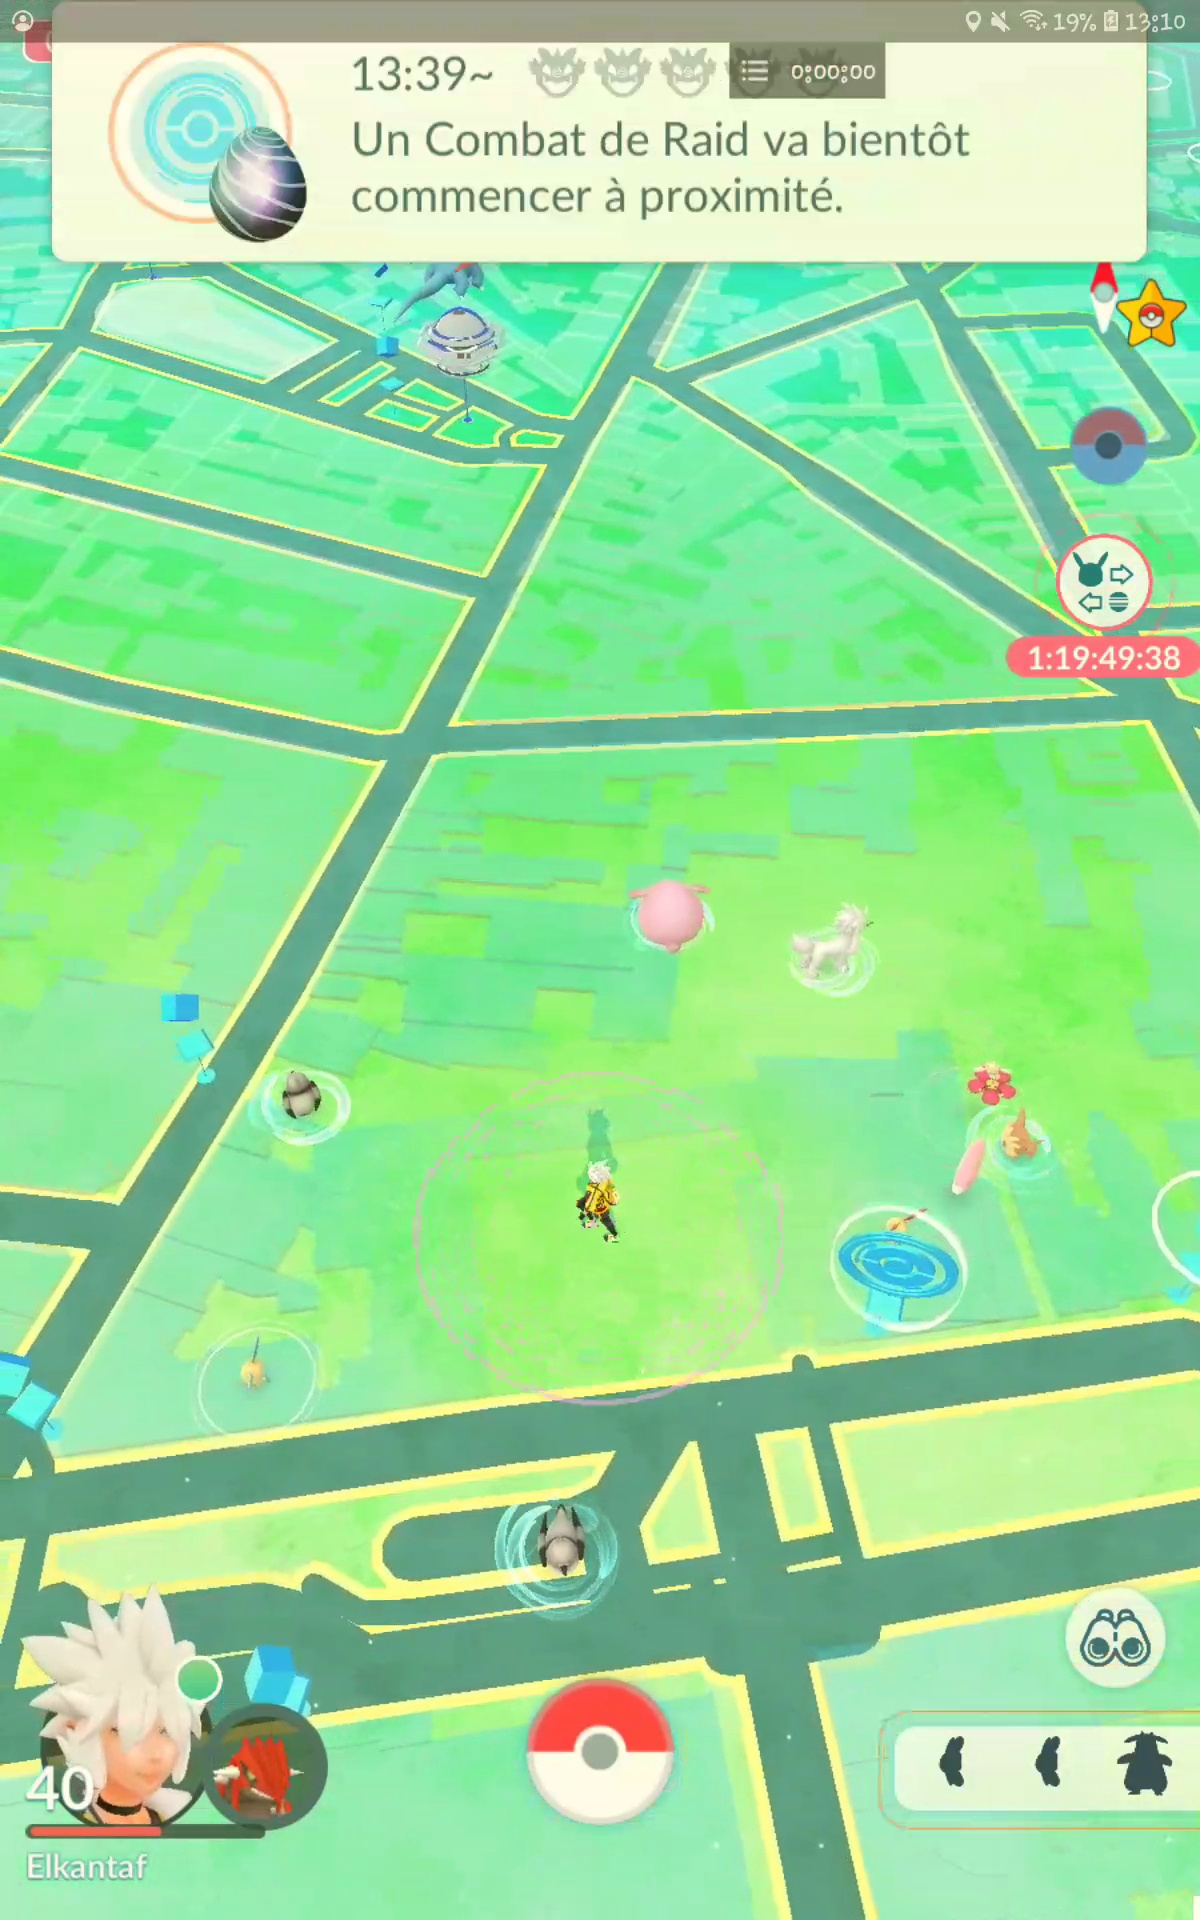Pokemon: (782, 893, 893, 995), (617, 869, 733, 963), (525, 1493, 607, 1588), (228, 1320, 283, 1411), (271, 1059, 335, 1136), (993, 1104, 1053, 1171), (962, 1055, 1027, 1110), (947, 1129, 994, 1201)
